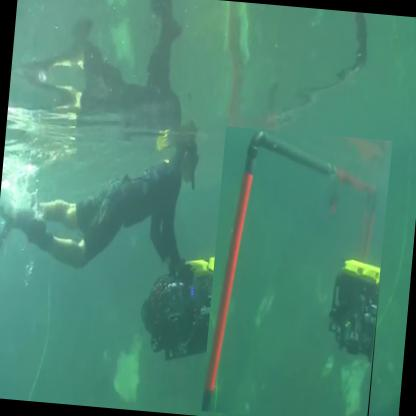gate: (202, 127, 396, 416)
